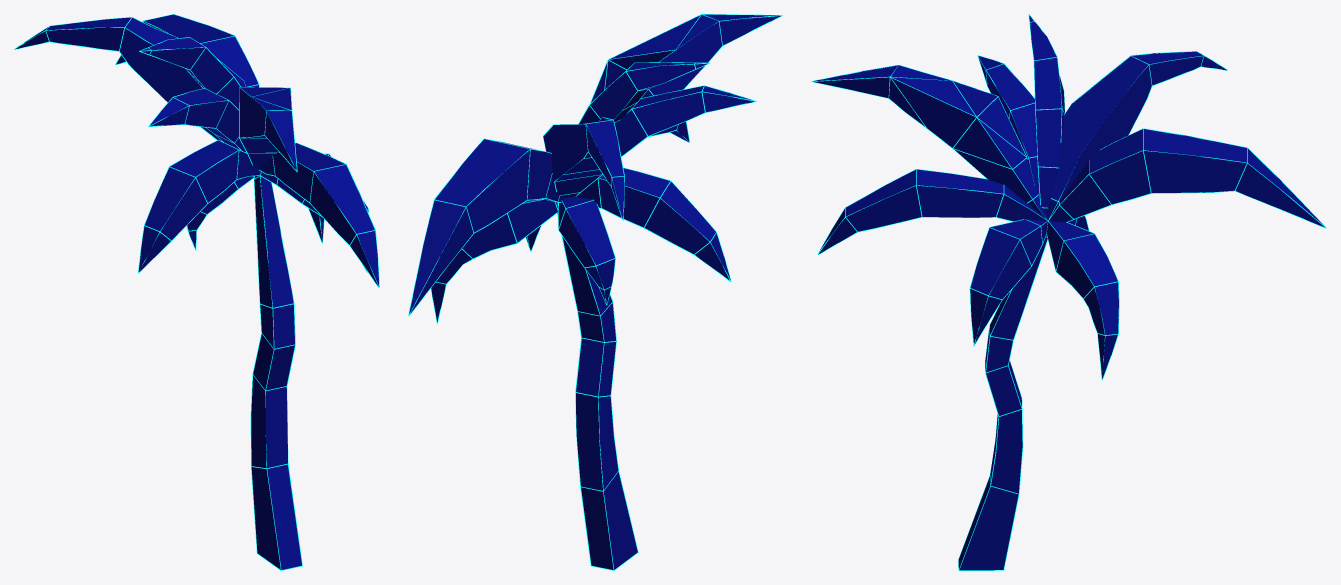
The model's file is Palmier3.fbx.
3 renders of one model, left to right at view 1: azimuth 30°, elevation 25°; view 2: azimuth 150°, elevation 25°; view 3: azimuth 270°, elevation 25°, orthographic. The views are drawn at different scales.
Visible parts, largest first — view 1: Palmier, PalmierWireFrame; view 2: Palmier, PalmierWireFrame; view 3: Palmier, PalmierWireFrame.
Part boxes in pixels (x1=…): Palmier: x1=15, y1=14, x2=378, y2=569; PalmierWireFrame: x1=14, y1=14, x2=379, y2=570; Palmier: x1=409, y1=14, x2=780, y2=569; PalmierWireFrame: x1=408, y1=14, x2=782, y2=570; Palmier: x1=813, y1=15, x2=1324, y2=570; PalmierWireFrame: x1=811, y1=14, x2=1326, y2=570.
Bounding box in the file's own units: 139 × 279 × 261.
